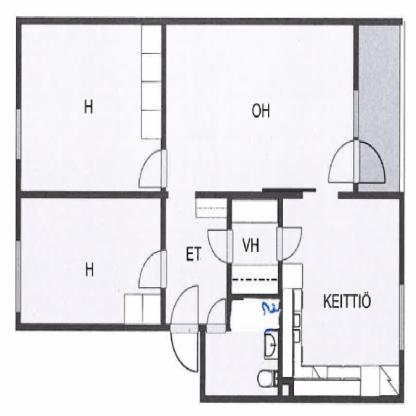door: (169, 280, 201, 378), (326, 138, 386, 188), (132, 154, 168, 192), (136, 250, 166, 290), (206, 227, 233, 265), (203, 299, 229, 337), (275, 228, 304, 260)
window: (14, 240, 22, 312), (398, 283, 405, 354), (16, 105, 22, 160), (354, 90, 360, 139)
zone: (165, 25, 353, 190), (21, 24, 159, 190), (283, 199, 399, 394), (23, 197, 159, 322), (165, 197, 226, 325), (359, 25, 401, 192), (208, 293, 279, 391), (232, 199, 277, 293)
